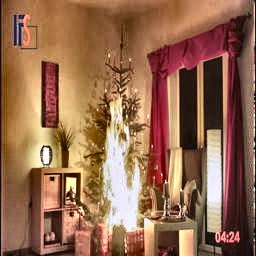fire: (103, 96, 147, 228)
